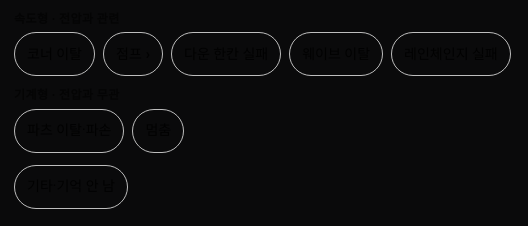
Test: RaceRetireReasonSelect 드릴다운 › [뒤로] 탭 → 최상위 뷰 복귀
What coordinates should you click on to do the following:
click the button "점프 ›"
I would click on:
 (133, 54)
Its box is [103,32,163,76].
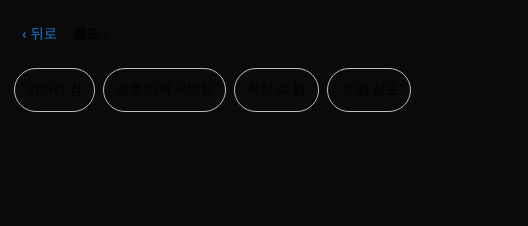
What coordinates should you click on to do the following:
click the button "‹ 뒤로"
I would click on:
 (40, 34)
Its box is [14,12,65,56].
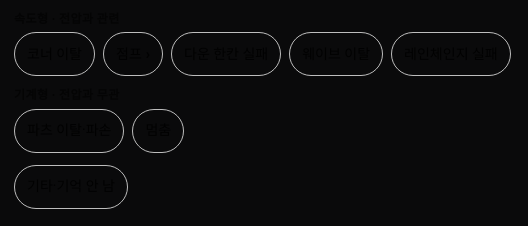
Now the button "코너 이탈" is shown, box [14,32,95,76]
Now the button "비거리 김" is gone
